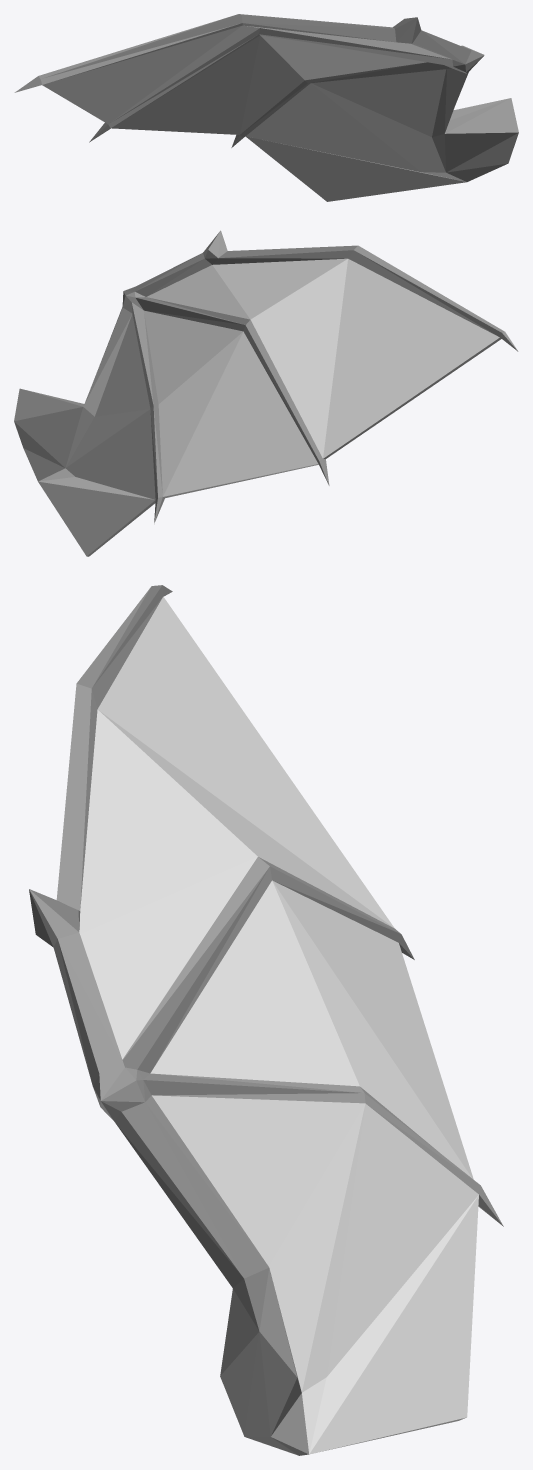
The model's file is Enemy_Bat_Flap_Start.fbx.
The picture shows the model from 3 angles, top to bottom: view 1: azimuth 30°, elevation 25°; view 2: azimuth 150°, elevation 25°; view 3: azimuth 270°, elevation 25°; orthographic projection. The views are drawn at different scales.
Visible parts, largest first — view 1: Enemy_Bat_Flap_Start; view 2: Enemy_Bat_Flap_Start; view 3: Enemy_Bat_Flap_Start.
Part boxes in pixels (x1,y1,x2,y2): Enemy_Bat_Flap_Start: (14, 14, 518, 201); Enemy_Bat_Flap_Start: (14, 230, 518, 556); Enemy_Bat_Flap_Start: (29, 585, 503, 1455).
Size of the model in its own units: 390 by 221 by 168.
